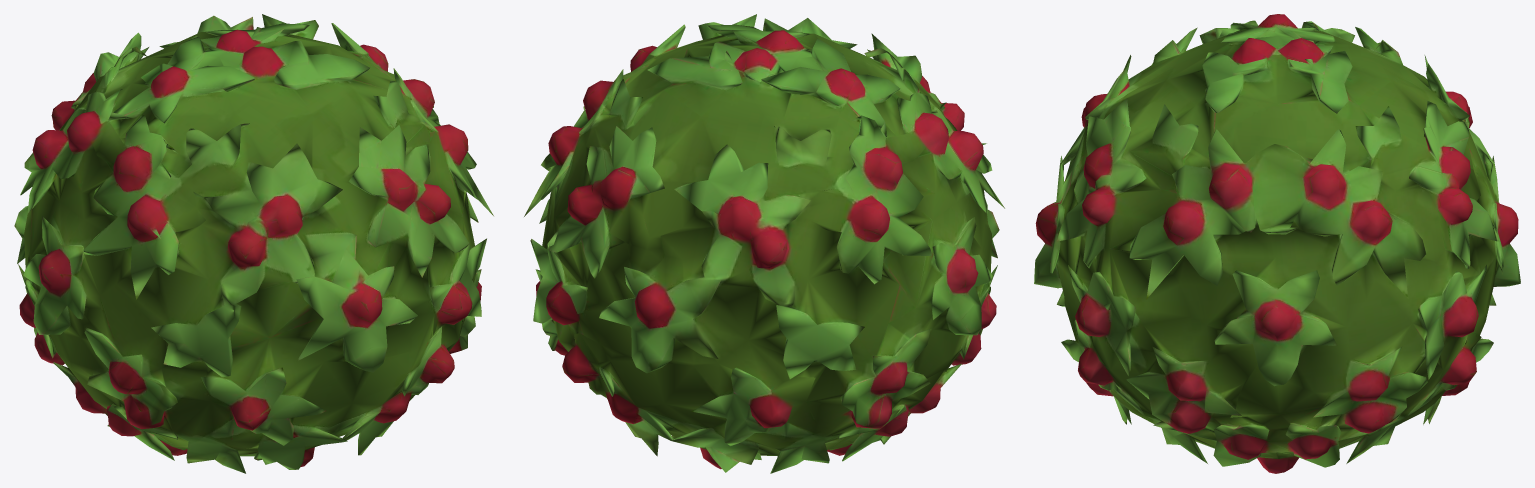
Rendered from bush.glb.
The picture shows the model from 3 angles, left to right: view 1: azimuth 30°, elevation 25°; view 2: azimuth 150°, elevation 25°; view 3: azimuth 270°, elevation 25°; orthographic projection.
Parts seen in each view (by area): view 1: Mesh_0; view 2: Mesh_0; view 3: Mesh_0.
Part boxes in pixels (box(x1,y1,x2,y2)): Mesh_0: box(14, 14, 493, 473); Mesh_0: box(524, 14, 1004, 473); Mesh_0: box(1034, 14, 1520, 473).
Bounding box in the file's own units: 1.9 × 1.75 × 1.9.
1 material, 1 textured.
